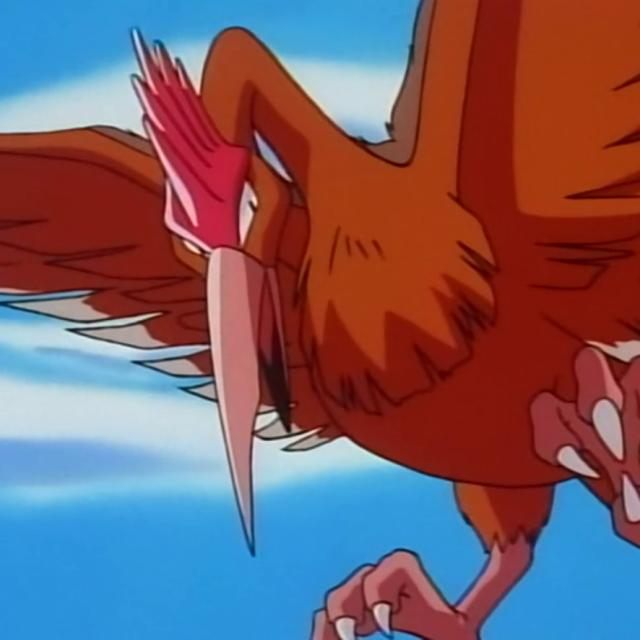Fearow: (17, 13, 640, 493)
